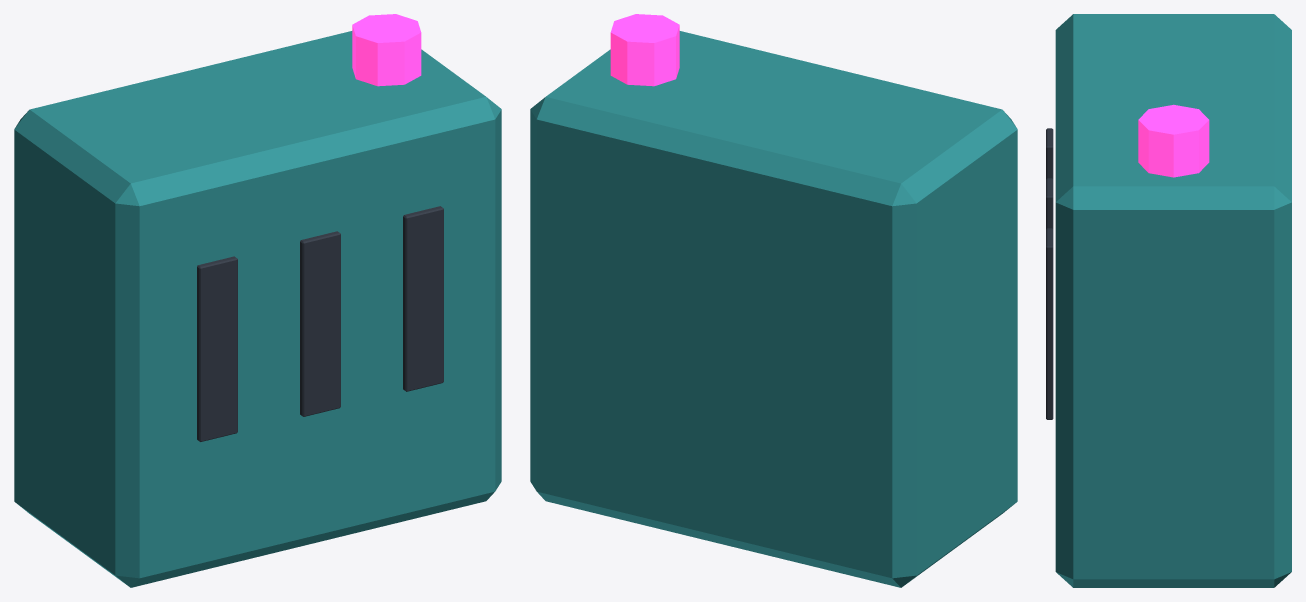
The model's file is street_011_seed11.glb.
3 renders of one model, left to right at view 1: azimuth 30°, elevation 25°; view 2: azimuth 150°, elevation 25°; view 3: azimuth 270°, elevation 25°, orthographic.
Parts seen in each view (by area): view 1: street_011_seed11; view 2: street_011_seed11; view 3: street_011_seed11.
Part boxes in pixels (bbox=[...]): street_011_seed11: bbox=[14, 14, 501, 587]; street_011_seed11: bbox=[530, 14, 1017, 587]; street_011_seed11: bbox=[1046, 14, 1291, 587].
Size of the model in its own units: 1.5 by 1.66 by 0.8325.
